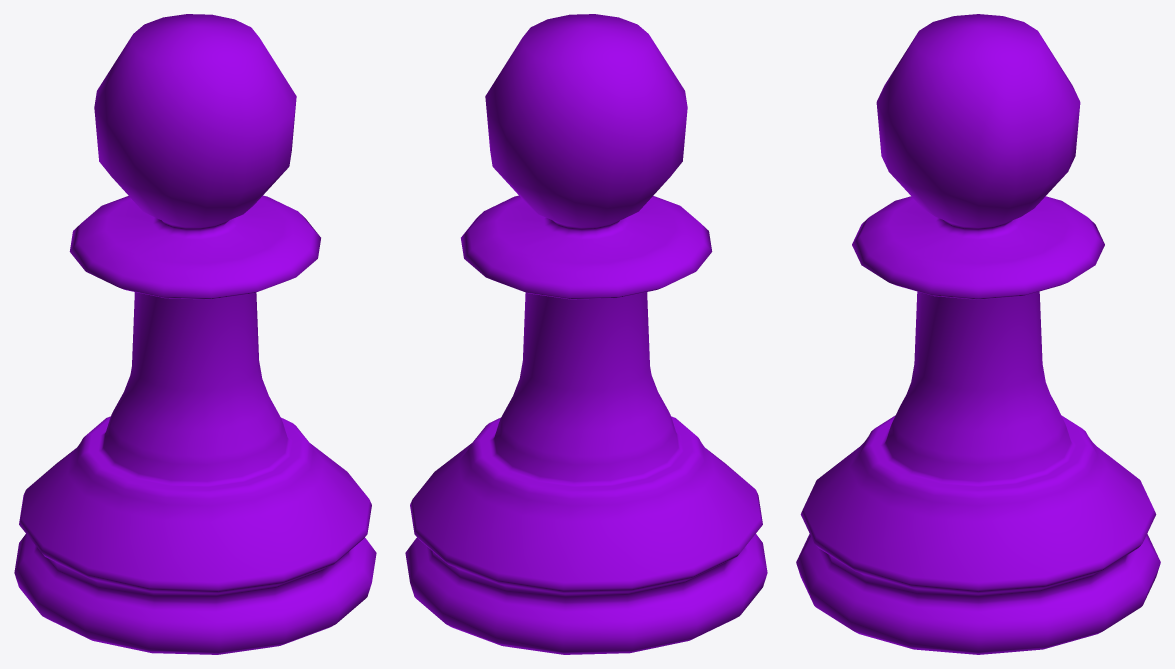
Rendered from Pawn.glb.
3 views of the same model, side by side, from view 1: azimuth 30°, elevation 25°; view 2: azimuth 150°, elevation 25°; view 3: azimuth 270°, elevation 25° (orthographic).
Visible parts, largest first — view 1: SM_BlackPawn; view 2: SM_BlackPawn; view 3: SM_BlackPawn.
Part boxes in pixels (box(x1,y1,x2,y2)): SM_BlackPawn: box(14, 14, 376, 654); SM_BlackPawn: box(405, 14, 767, 654); SM_BlackPawn: box(796, 14, 1160, 654).
Bounding box in the file's own units: 0.4254 × 0.719 × 0.4254.
